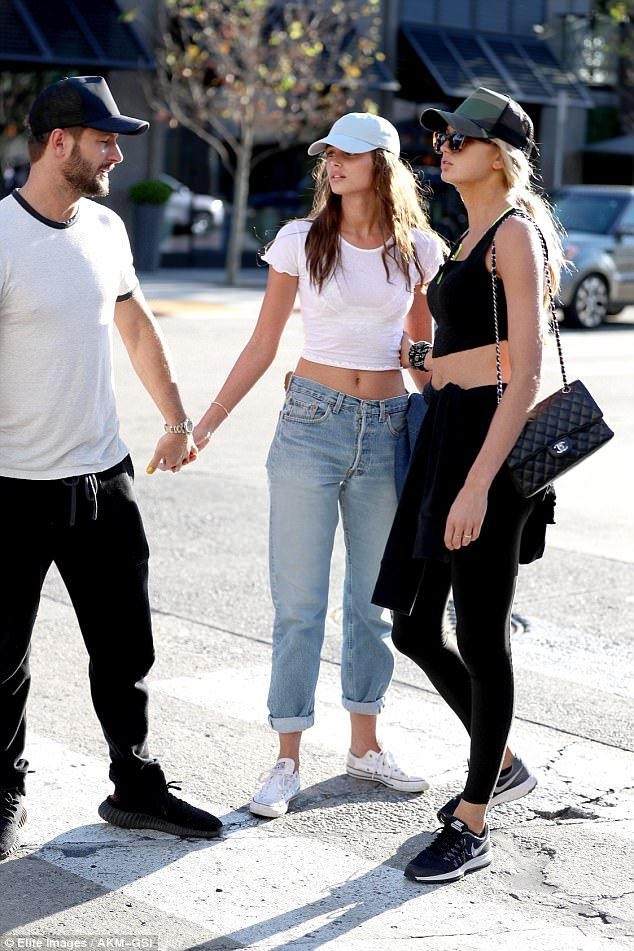Person: (1, 71, 227, 866), (195, 112, 442, 821), (390, 85, 547, 885)
